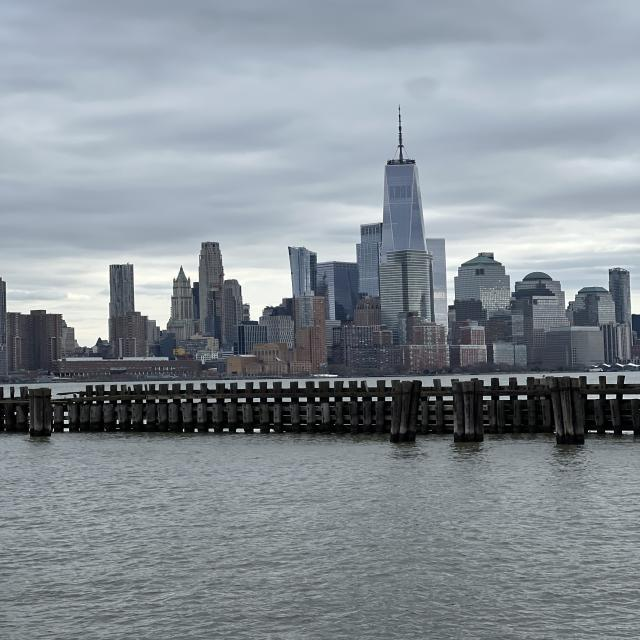WTC: (379, 106, 429, 251)
